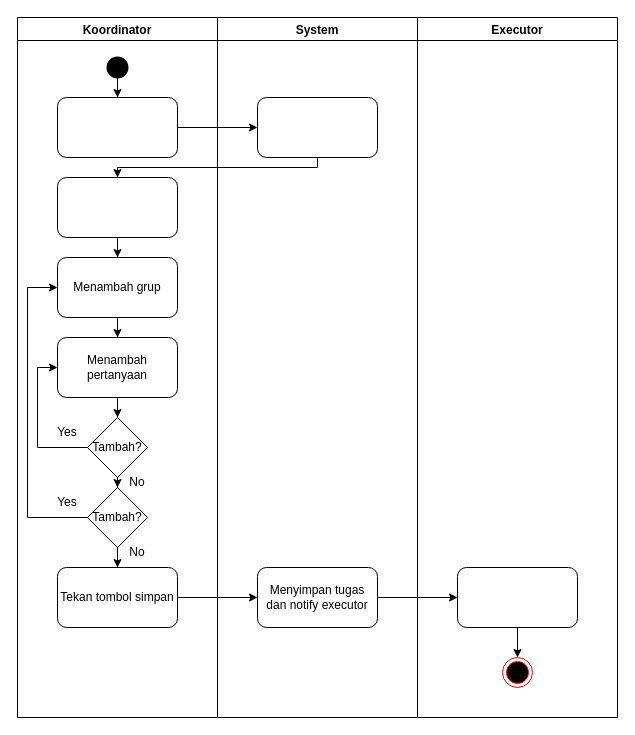
The diagram is 635 pixels wide and 735 high, and some of its shapes have lost their labels. Each missing label, with the centre of its shape:
Memberikan detail tugas dan executor: the point at 117,207
Menampilkan modal pertanyaan: the point at 317,127
Menekan tombol tambah tugas: the point at 117,127
Menerima notification tugas: the point at 517,597
